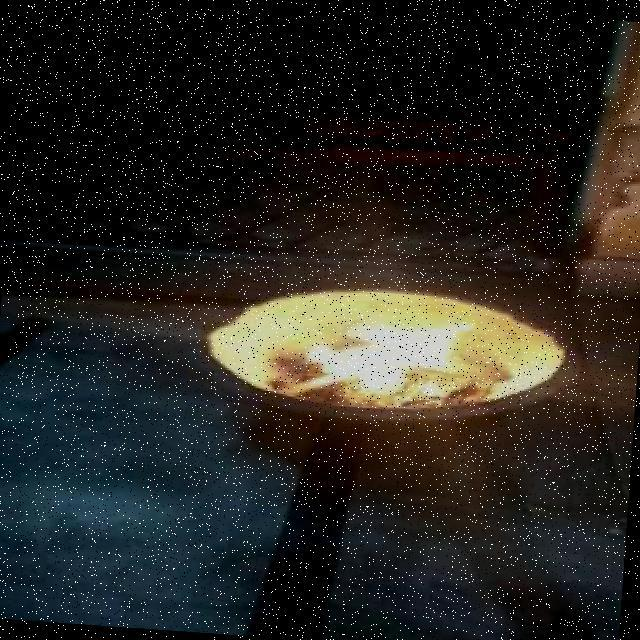Fire: (252, 276, 479, 399)
